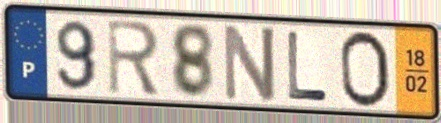8: (168, 21, 216, 102)
9: (53, 17, 100, 94)
L: (285, 29, 330, 104)
N: (222, 20, 278, 104)
O: (337, 28, 393, 111)
R: (105, 17, 162, 98)
